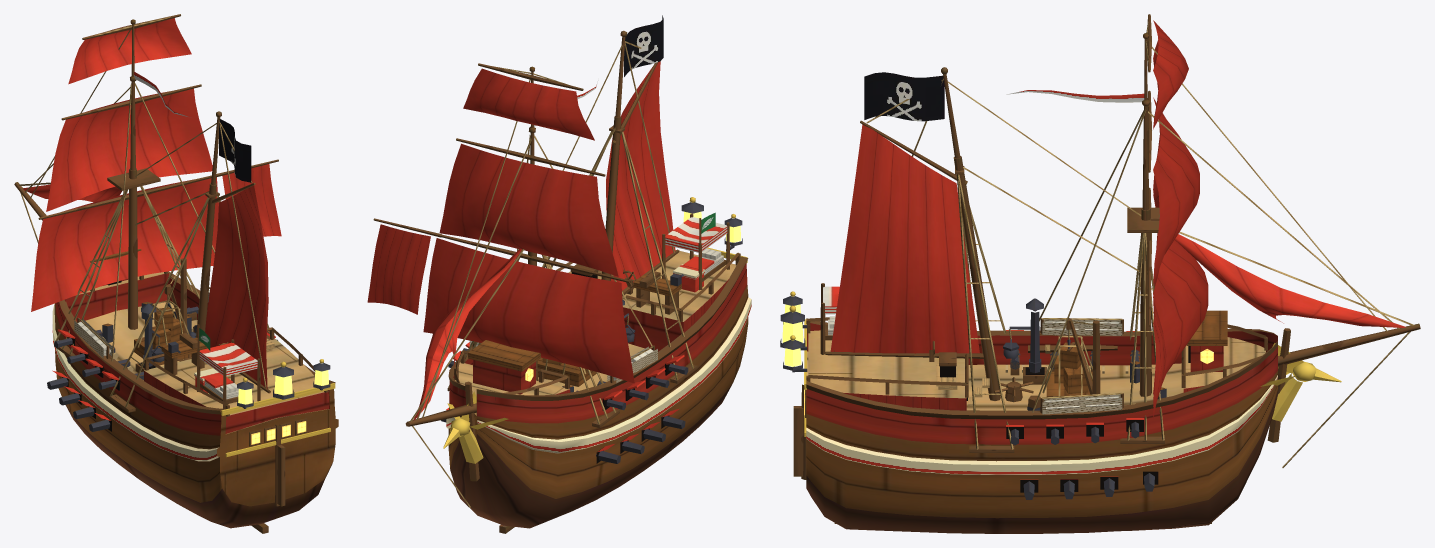
The model's file is player_brigantine.glb.
3 views of the same model, side by side, from view 1: azimuth 30°, elevation 25°; view 2: azimuth 150°, elevation 25°; view 3: azimuth 270°, elevation 25° (orthographic). The views are drawn at different scales.
Visible parts, largest first — view 1: Hull, Sail0_0, Sail0_1, Rigging, Sail1_0, Slot_rigging_Sail0, Slot_infirmary, Slot_hold, Slot_rigging_Sail1, Flag, Slot_workshop, Slot_gundeck (+5 smaller); view 2: Hull, Sail0_0, Sail0_1, Sail1_0, Rigging, Slot_rigging_Sail0, Slot_rigging_Sail1, Slot_quarters, Slot_infirmary, Jib, Flag, Slot_rigging (+4 smaller); view 3: Hull, Sail1_0, Rigging, Slot_quarters, Sail0_0, Jib, Sail0_1, Flag, Slot_hold, Slot_rigging_Sail0, Slot_galley, Slot_gundeck (+5 smaller).
Boxes of the visible parts, x1=… form: Hull: x1=52, y1=271, x2=338, y2=533; Sail0_0: x1=31, y1=177, x2=218, y2=311; Sail0_1: x1=46, y1=88, x2=212, y2=211; Rigging: x1=14, y1=76, x2=270, y2=407; Sail1_0: x1=205, y1=185, x2=268, y2=388; Slot_rigging_Sail0: x1=68, y1=18, x2=191, y2=84; Slot_infirmary: x1=194, y1=324, x2=260, y2=408; Slot_hold: x1=134, y1=258, x2=191, y2=365; Slot_rigging_Sail1: x1=222, y1=164, x2=281, y2=236; Flag: x1=134, y1=71, x2=251, y2=182; Slot_workshop: x1=161, y1=333, x2=274, y2=374; Slot_gundeck: x1=47, y1=332, x2=196, y2=431; Hull: x1=443, y1=197, x2=751, y2=533; Sail0_0: x1=423, y1=238, x2=634, y2=383; Sail0_1: x1=439, y1=143, x2=618, y2=276; Sail1_0: x1=606, y1=61, x2=675, y2=290; Rigging: x1=405, y1=30, x2=693, y2=507; Slot_rigging_Sail0: x1=463, y1=68, x2=594, y2=140; Slot_rigging_Sail1: x1=367, y1=224, x2=430, y2=314; Slot_quarters: x1=468, y1=340, x2=657, y2=394; Slot_infirmary: x1=662, y1=212, x2=729, y2=292; Jib: x1=413, y1=248, x2=521, y2=420; Flag: x1=534, y1=15, x2=663, y2=127; Slot_rigging: x1=373, y1=63, x2=583, y2=417; Hull: x1=780, y1=291, x2=1341, y2=533; Sail1_0: x1=830, y1=124, x2=979, y2=353; Rigging: x1=825, y1=67, x2=1420, y2=467; Slot_quarters: x1=1040, y1=310, x2=1227, y2=414; Sail0_0: x1=1153, y1=194, x2=1208, y2=406; Jib: x1=1174, y1=234, x2=1406, y2=327; Sail0_1: x1=1153, y1=97, x2=1199, y2=285; Flag: x1=864, y1=72, x2=1144, y2=121; Slot_hold: x1=1042, y1=318, x2=1100, y2=396; Slot_rigging_Sail0: x1=1153, y1=20, x2=1188, y2=129; Slot_galley: x1=1003, y1=298, x2=1046, y2=384; Slot_gundeck: x1=1020, y1=395, x2=1158, y2=499.
Size of the model in its own units: 2.12 by 3.38 by 4.01.
8 materials, 8 textured.
